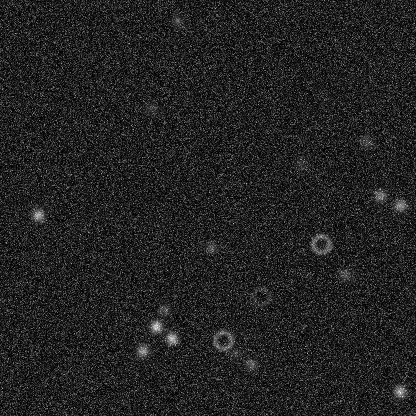Ring: (309, 232, 333, 256), (211, 328, 235, 352), (249, 284, 273, 308)
Spot: (372, 187, 388, 203), (292, 155, 308, 171), (242, 356, 258, 372), (391, 383, 407, 399), (226, 345, 242, 361), (30, 207, 46, 223), (337, 266, 353, 282), (148, 318, 164, 334), (169, 12, 185, 28), (392, 197, 408, 213), (203, 239, 219, 255), (156, 301, 172, 317), (358, 134, 374, 150), (142, 100, 158, 116), (163, 330, 179, 346), (134, 343, 150, 359)
